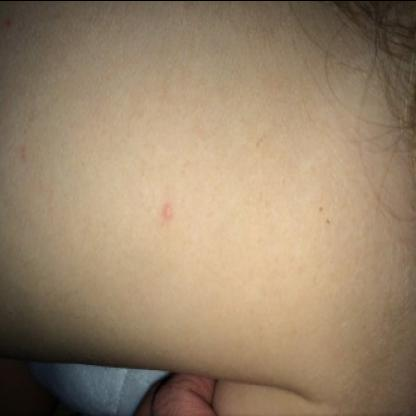Fire ant: (309, 240, 344, 262)
